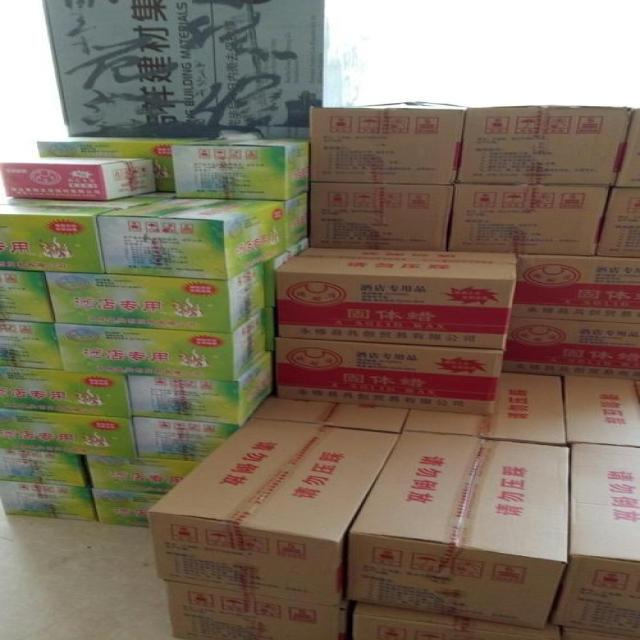box: (146, 418, 401, 606), (346, 431, 570, 630), (276, 247, 517, 350), (548, 442, 640, 638), (276, 338, 503, 415), (96, 197, 287, 280), (54, 310, 268, 382), (44, 263, 264, 333), (457, 104, 634, 186), (308, 102, 466, 184), (403, 372, 567, 446), (448, 184, 611, 256), (0, 197, 146, 274), (164, 581, 347, 640), (128, 351, 271, 424), (310, 183, 454, 251), (37, 138, 214, 191), (500, 316, 640, 379), (511, 255, 640, 323), (172, 138, 308, 201), (0, 366, 131, 418), (0, 157, 156, 200), (0, 409, 137, 457), (250, 392, 410, 432), (563, 376, 640, 446), (132, 417, 239, 461), (87, 454, 201, 494), (0, 479, 97, 522), (0, 448, 87, 487), (595, 188, 640, 257), (0, 269, 55, 323), (92, 488, 164, 527), (284, 191, 308, 250)
